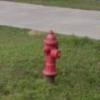a fire hydrant: (43, 31, 61, 78)
